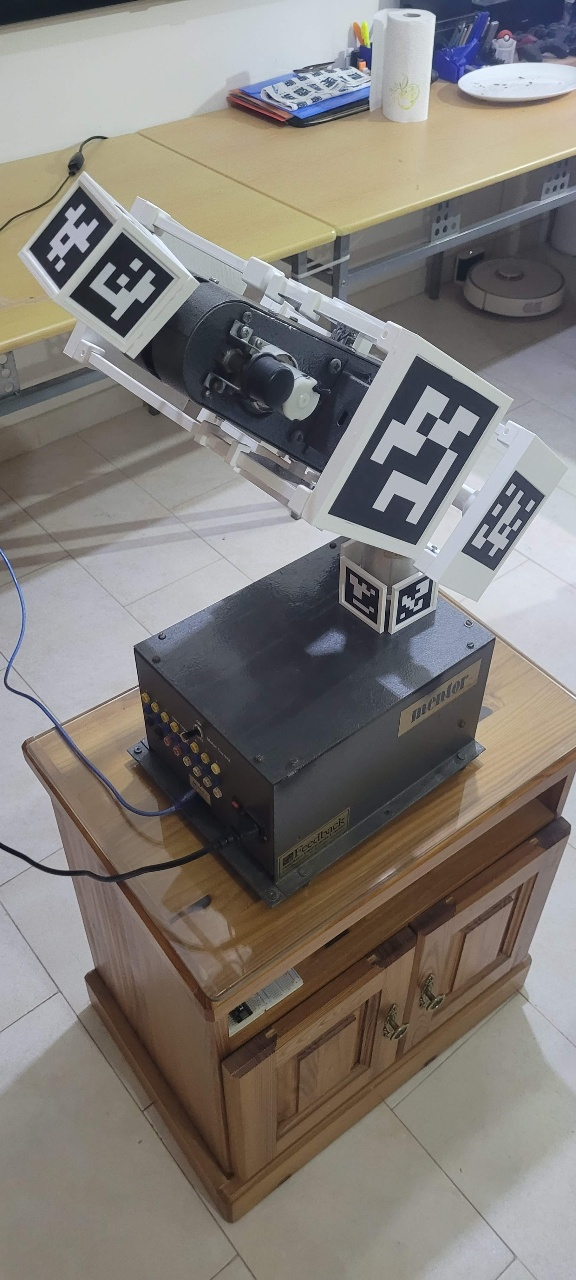Robot: (17, 171, 572, 638)
